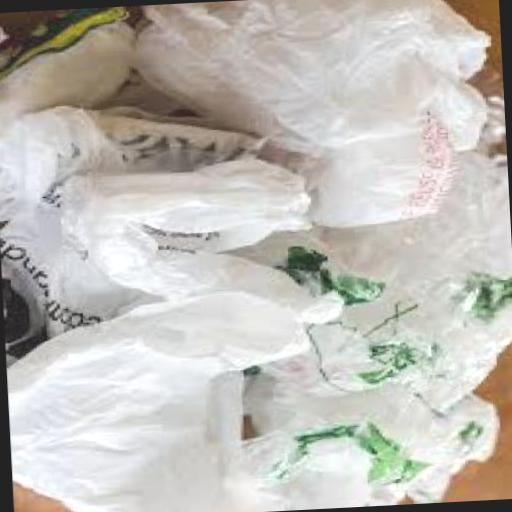plastic: (124, 0, 505, 243), (0, 90, 327, 345), (4, 281, 359, 512), (237, 230, 512, 510), (292, 88, 512, 365), (0, 5, 147, 110)
